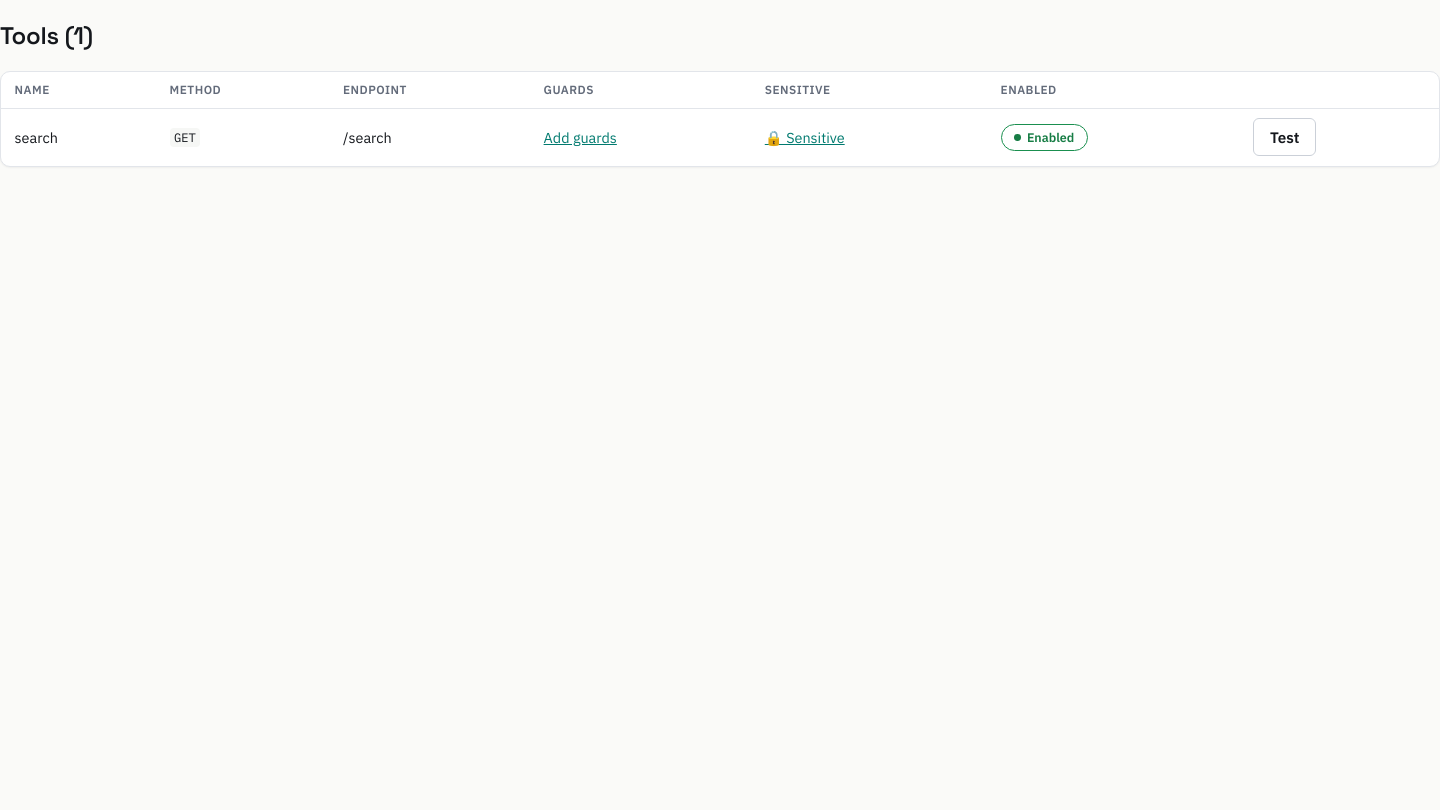
ServerDetailToolsTable › requires confirmation before unmarking a tool as sensitive, since that removes its step-up gate
What coordinates should you click on to do the following:
click the button "🔒 Sensitive"
I would click on:
 (805, 137)
Its box is [765,128,845,147].
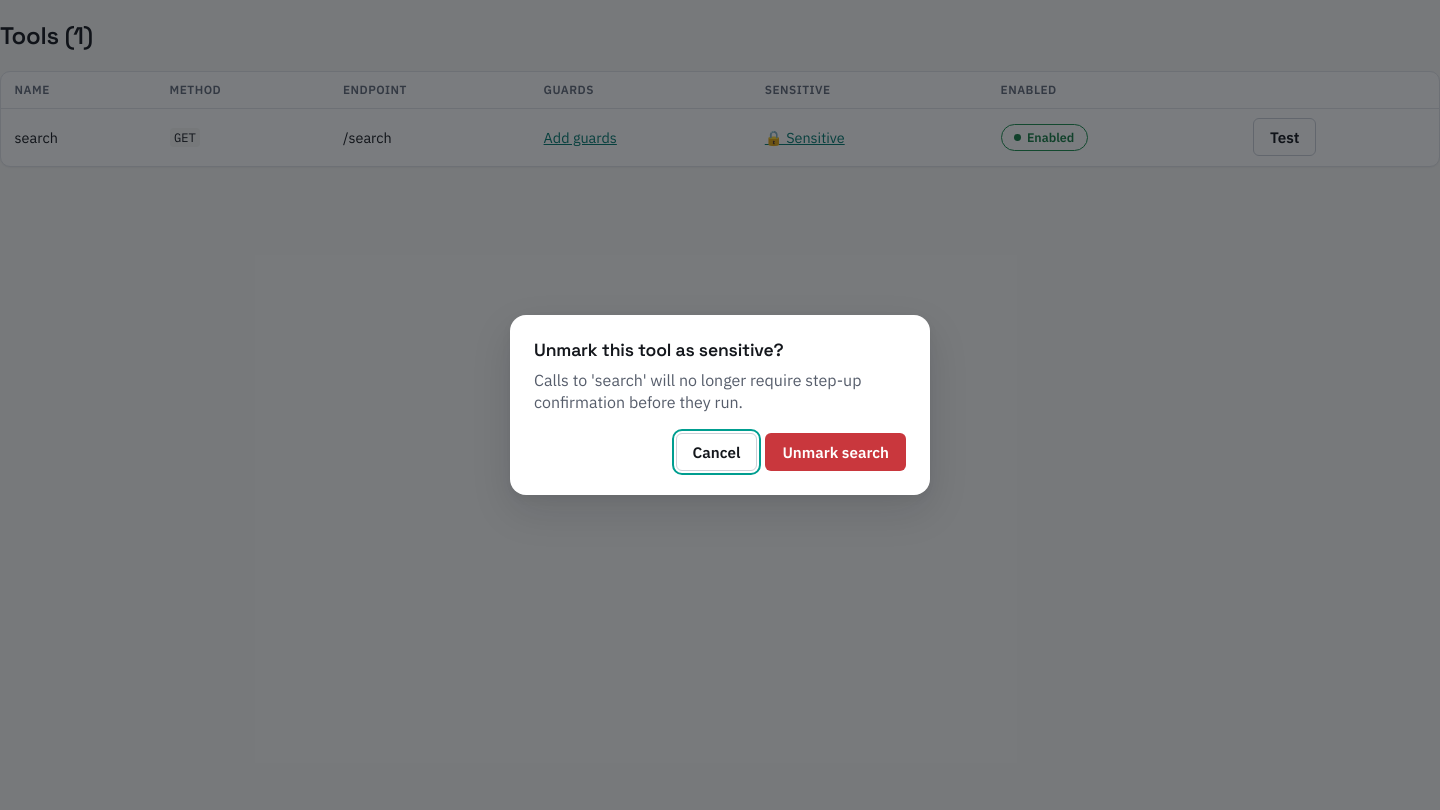
Result: the dialog is shown at [510,315,930,495]
What coordinates should you click on to do the following:
click the button with class "btn-danger"
I would click on:
 (836, 452)
Its box is [765,433,906,471].
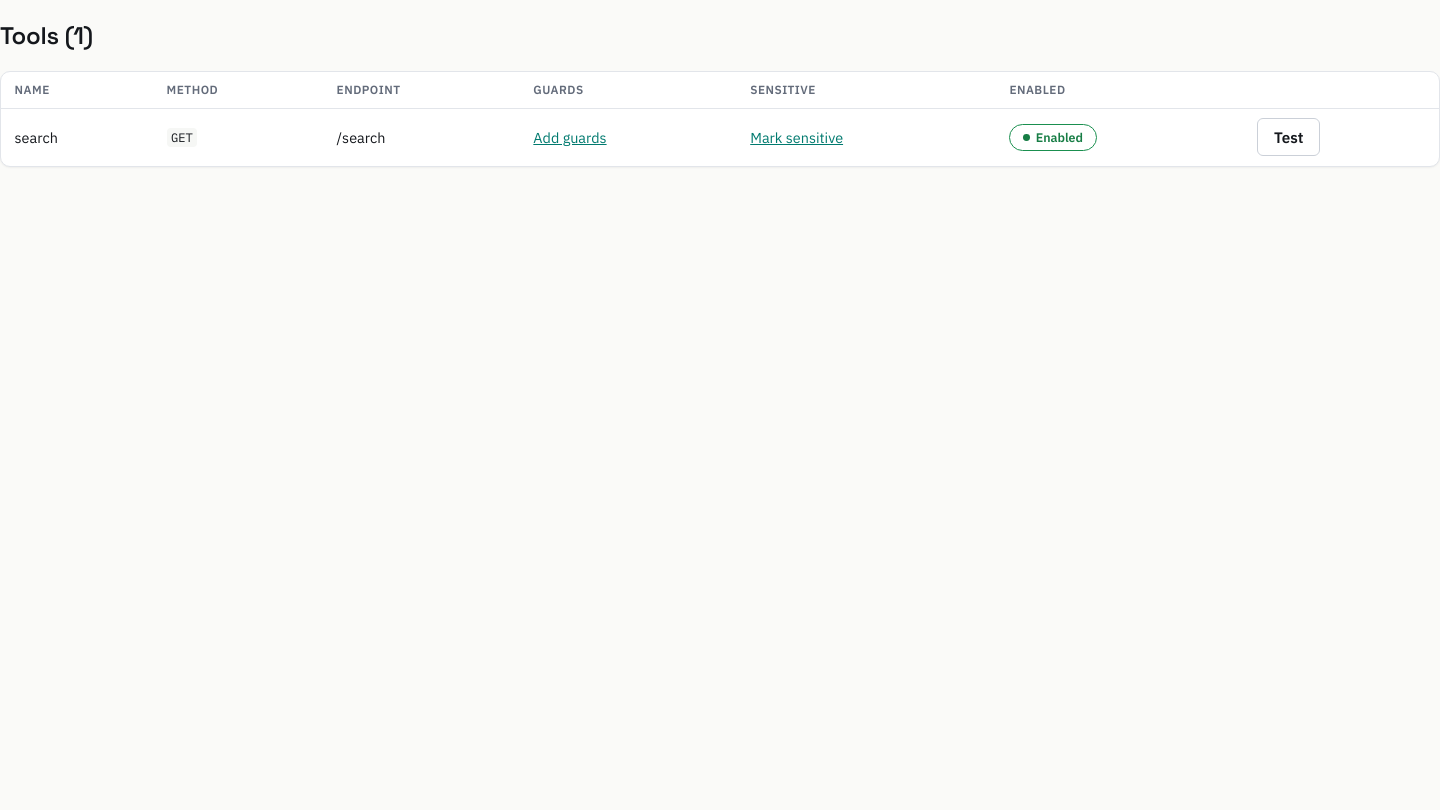
Result: the button "Mark sensitive" is shown at [750,128,843,147]
